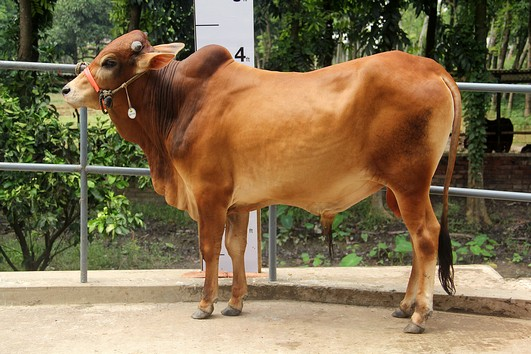cow: (56, 24, 465, 334)
